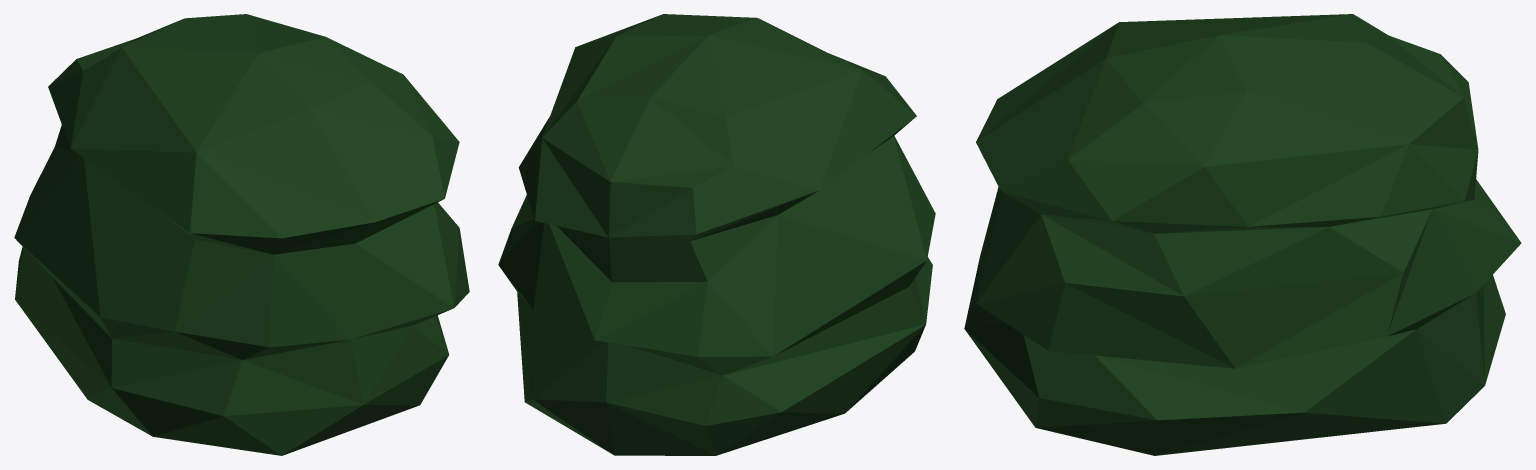
Rendered from bush_c.glb.
3 views of the same model, side by side, from view 1: azimuth 30°, elevation 25°; view 2: azimuth 150°, elevation 25°; view 3: azimuth 270°, elevation 25° (orthographic). The views are drawn at different scales.
Parts seen in each view (by area): view 1: bush_c; view 2: bush_c; view 3: bush_c.
Part boxes in pixels (box(x1,y1,x2,y2)): bush_c: box(14, 14, 469, 455); bush_c: box(498, 14, 935, 455); bush_c: box(964, 14, 1521, 455).
Bounding box in the file's own units: 1.34 × 1.24 × 1.69.
